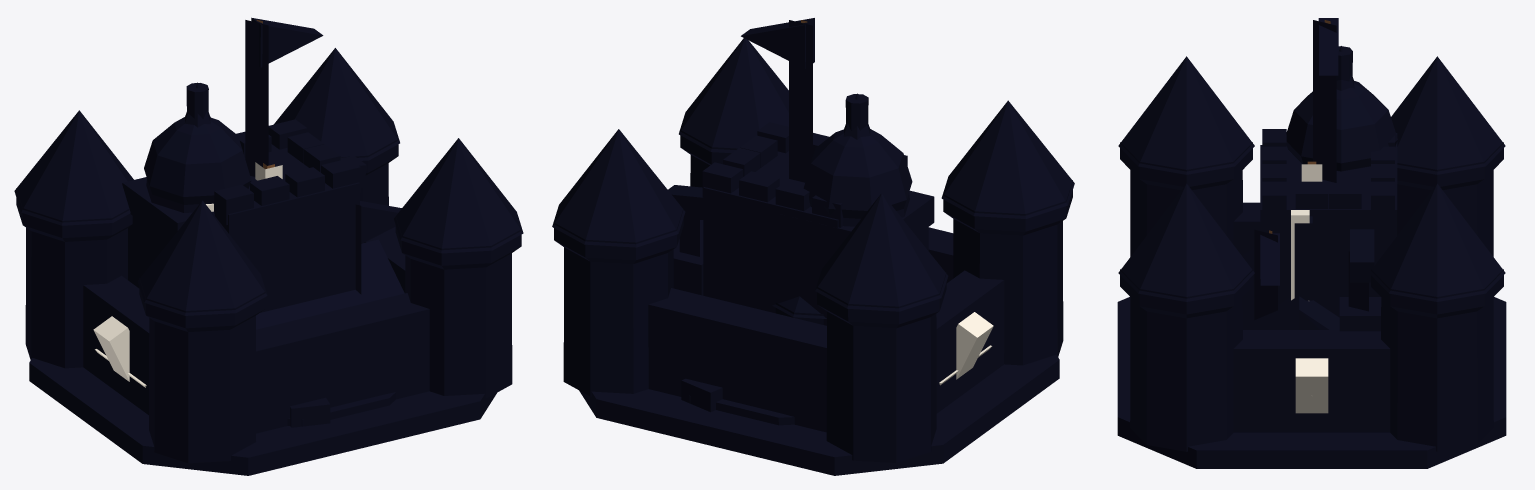
The model's file is expansions.glb.
The picture shows the model from 3 angles, left to right: view 1: azimuth 30°, elevation 25°; view 2: azimuth 150°, elevation 25°; view 3: azimuth 270°, elevation 25°; orthographic projection. The views are drawn at different scales.
Parts seen in each view (by area): view 1: castle_outline, metropolis_politics_outline, metropolis_trade_outline, barbarian_ship_outline, wall_outline, depot_castle_outline, metropolis_science_outline; view 2: castle_outline, metropolis_trade_outline, metropolis_politics_outline, depot_quarry_outline, wall_outline, barbarian_ship_outline, metropolis_science_outline, depot_castle_outline; view 3: castle_outline, metropolis_trade_outline, depot_quarry_outline, metropolis_politics_outline, barbarian_ship_outline, depot_castle_outline, knight_3_active_outline, metropolis_science_outline.
Boxes of the visible parts, x1,y1,x2,y2 form: castle_outline: (14,17,523,475); metropolis_politics_outline: (122,82,404,329); metropolis_trade_outline: (144,117,251,204); barbarian_ship_outline: (93,162,282,387); wall_outline: (287,392,395,427); depot_castle_outline: (355,201,401,294); metropolis_science_outline: (146,83,213,212); castle_outline: (552,18,1074,475); metropolis_trade_outline: (803,129,912,218); metropolis_politics_outline: (780,93,934,253); depot_quarry_outline: (668,185,703,295); wall_outline: (681,378,794,425); barbarian_ship_outline: (939,312,993,385); metropolis_science_outline: (811,94,909,226); depot_castle_outline: (772,296,826,324); castle_outline: (1117,18,1506,468); metropolis_trade_outline: (1286,81,1397,171); depot_quarry_outline: (1339,229,1381,331); metropolis_politics_outline: (1242,46,1397,329); barbarian_ship_outline: (1291,164,1328,413); depot_castle_outline: (1254,229,1279,319); knight_3_active_outline: (1294,216,1312,255); metropolis_science_outline: (1288,46,1370,171).
Size of the model in its own units: 1.1 by 0.95 by 1.
